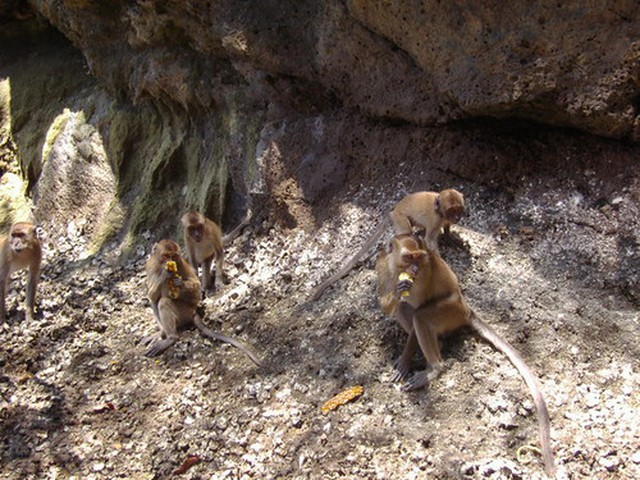Monkey: (375, 187, 493, 386), (142, 212, 242, 356), (1, 221, 45, 321)
